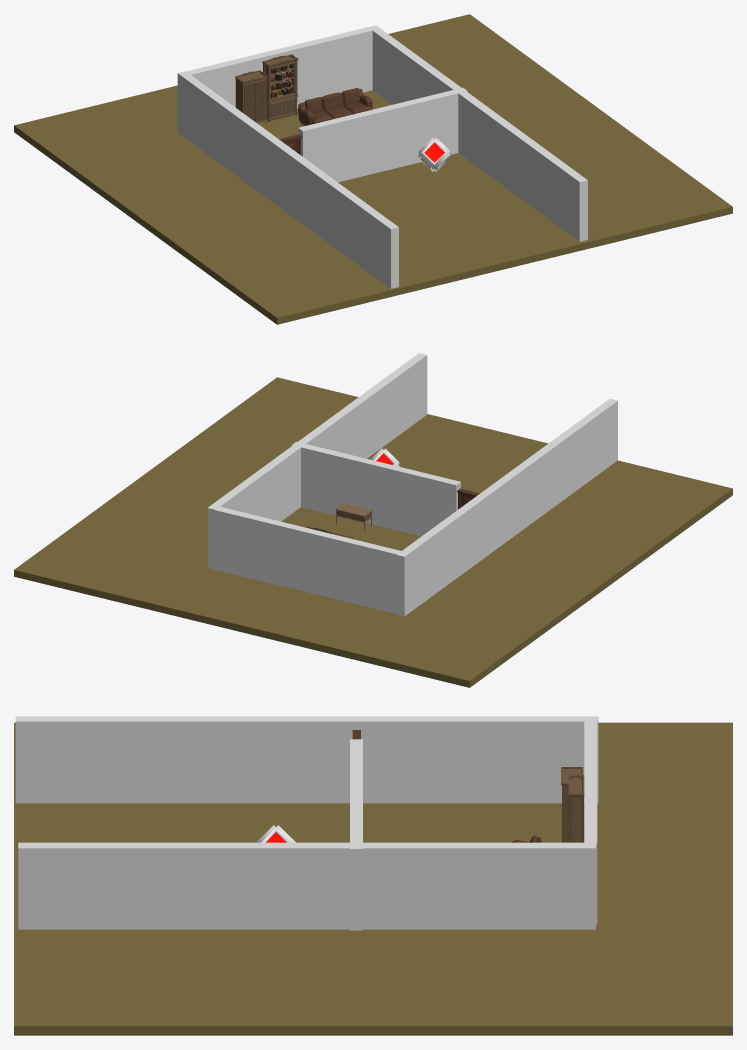
The model's file is World.gltf.
3 renders of one model, top to bottom at view 1: azimuth 30°, elevation 25°; view 2: azimuth 150°, elevation 25°; view 3: azimuth 270°, elevation 25°, orthographic. The views are drawn at different scales.
Visible parts, largest first — view 1: Plane, Wall, Wall.001, Wall.003, Wall.002, Sofa2.001, BookCase_Single.001, Cube, Closet.001; view 2: Plane, Wall, Wall.002, Wall.001, Wall.003; view 3: Plane, Wall.001, Wall, Wall.003, Wall.002, BookCase_Single.001, Closet.001.
Boxes of the visible parts, x1,y1,x2,y2 form: Plane: (14, 14, 732, 324); Wall: (177, 71, 398, 288); Wall.001: (368, 25, 587, 241); Wall.003: (298, 87, 467, 182); Wall.002: (186, 27, 372, 108); Sofa2.001: (298, 88, 372, 125); BookCase_Single.001: (262, 54, 298, 121); Cube: (418, 137, 450, 171); Closet.001: (235, 70, 267, 124); Plane: (14, 377, 732, 687); Wall: (396, 399, 617, 616); Wall.002: (214, 506, 402, 613); Wall.001: (207, 353, 427, 568); Wall.003: (291, 441, 460, 536); Plane: (14, 722, 732, 1035); Wall.001: (18, 842, 595, 929); Wall: (15, 716, 598, 803); Wall.003: (350, 739, 362, 930); Wall.002: (584, 721, 597, 924); BookCase_Single.001: (568, 774, 584, 842); Closet.001: (561, 767, 583, 842).
Size of the model in its own units: 27.97 by 3.94 by 27.97.
